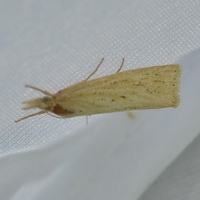insect: (16, 64, 180, 121)
